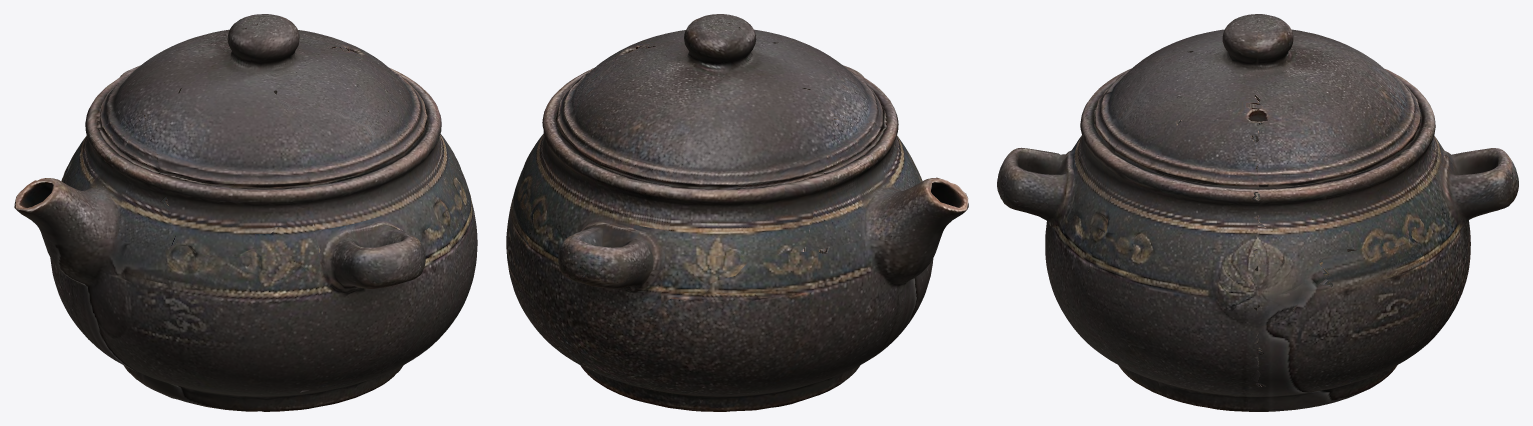
File: pot-desktop.glb
3 renders of one model, left to right at view 1: azimuth 30°, elevation 25°; view 2: azimuth 150°, elevation 25°; view 3: azimuth 270°, elevation 25°, orthographic.
Visible parts, largest first — view 1: tripo_node_4f4bd6ce-1856-4e80-973b-e448fa8c8c77; view 2: tripo_node_4f4bd6ce-1856-4e80-973b-e448fa8c8c77; view 3: tripo_node_4f4bd6ce-1856-4e80-973b-e448fa8c8c77.
Part boxes in pixels (box(x1,y1,x2,y2)): tripo_node_4f4bd6ce-1856-4e80-973b-e448fa8c8c77: box(14, 14, 477, 411); tripo_node_4f4bd6ce-1856-4e80-973b-e448fa8c8c77: box(506, 14, 968, 411); tripo_node_4f4bd6ce-1856-4e80-973b-e448fa8c8c77: box(997, 14, 1518, 411).
Size of the model in its own units: 0.9598 by 0.6995 by 0.9999.
Materials: 1 (1 with a texture image).
